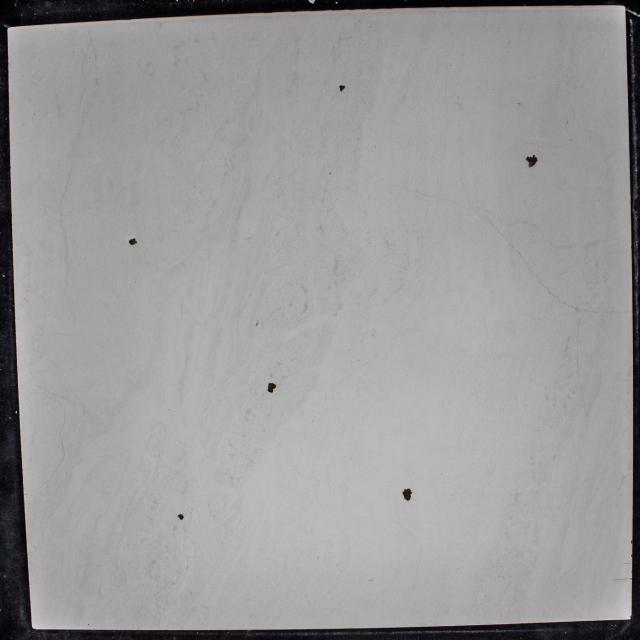hole: (524, 153, 541, 169), (402, 487, 414, 503), (267, 380, 278, 393), (128, 237, 137, 246), (338, 83, 346, 92), (176, 512, 185, 520)
